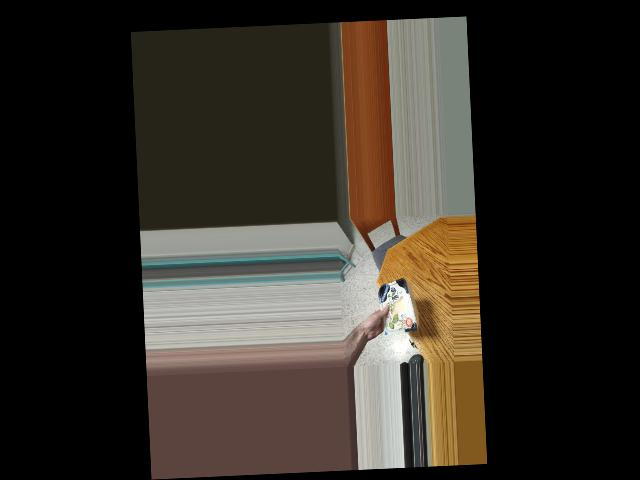cheese: (375, 276, 412, 338)
